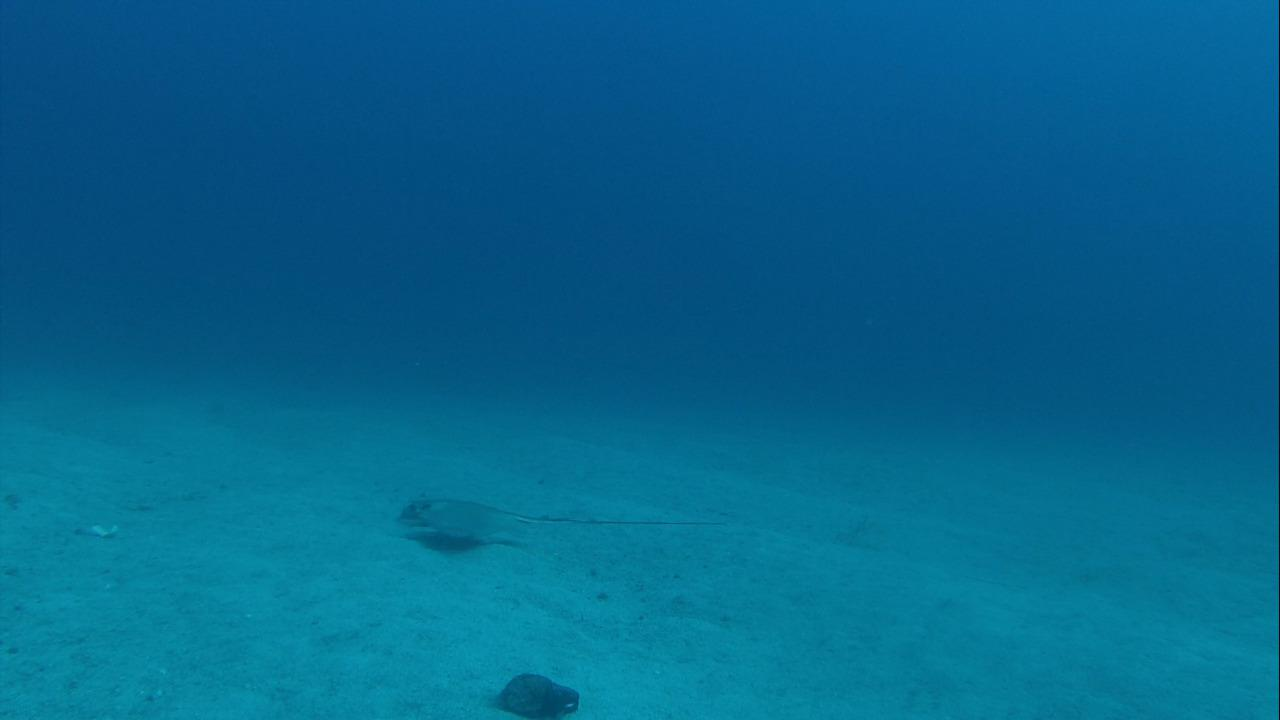myliobatis: (382, 480, 706, 553)
